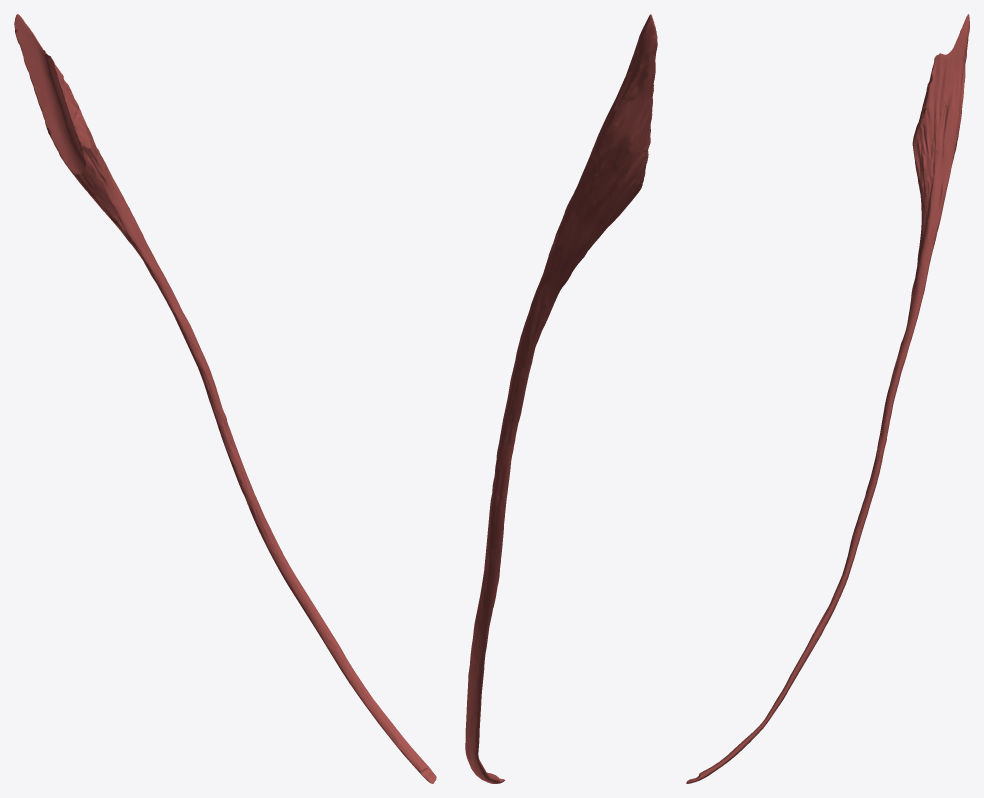
The model's file is FMA38526.glb.
The picture shows the model from 3 angles, left to right: view 1: azimuth 30°, elevation 25°; view 2: azimuth 150°, elevation 25°; view 3: azimuth 270°, elevation 25°; orthographic projection. The views are drawn at different scales.
Parts seen in each view (by area): view 1: FMA38526; view 2: FMA38526; view 3: FMA38526.
Boxes of the visible parts, x1,y1,x2,y2 form: FMA38526: (14,14,436,783); FMA38526: (465,14,657,783); FMA38526: (686,14,969,783).
Bounding box in the file's own units: 0.0782 × 0.1996 × 0.0785.
